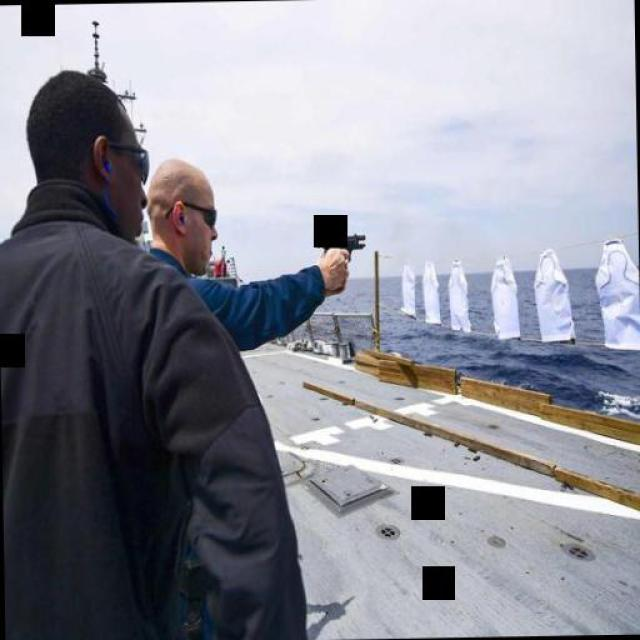gun: (314, 228, 366, 268)
